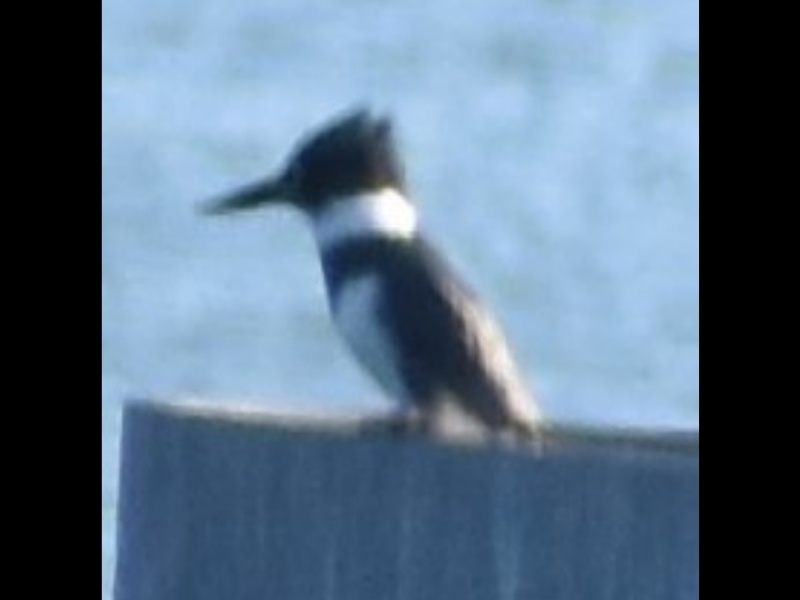kingfisher: (188, 97, 545, 442)
